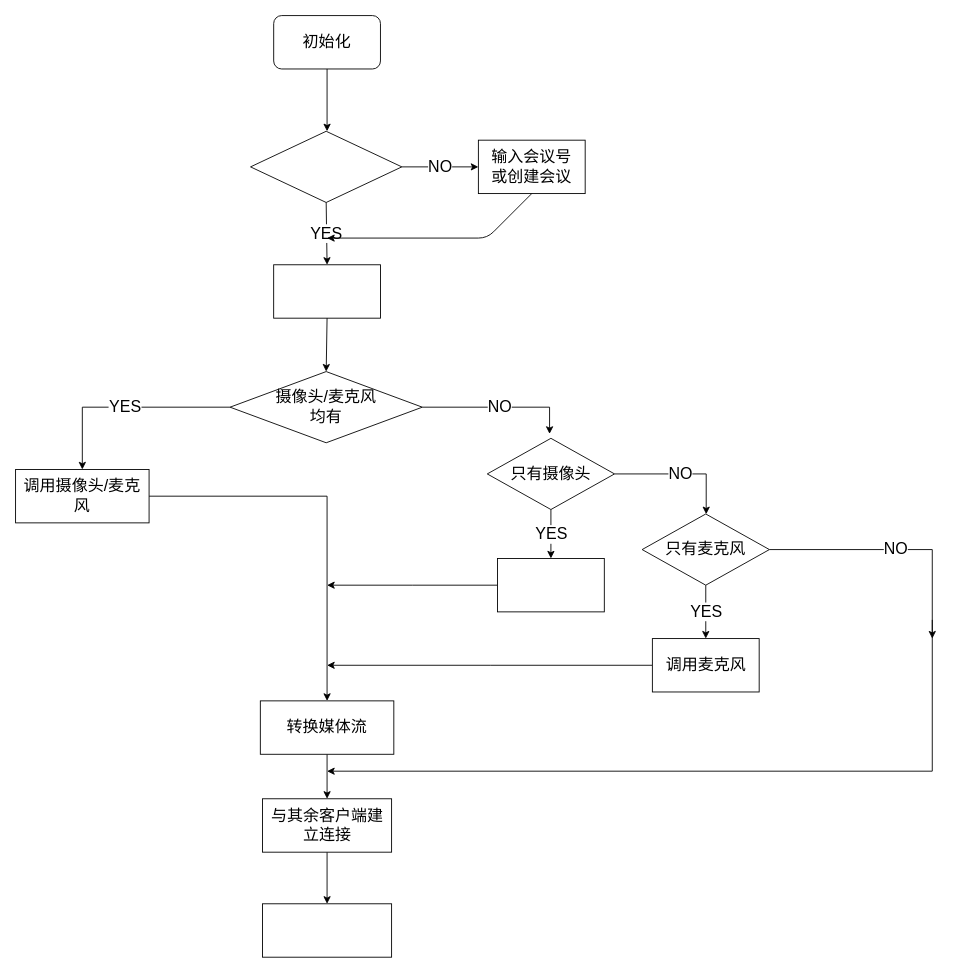
Image size: 955x973. Some labels were removed from this diagram. The shapes that lost their labels are listed below. From the top down, each one's centre as x and y in pixels, then its label:
point 326,166: 是否分享链接
point 326,291: 输入姓名
point 550,585: 调用摄像头
point 327,930: 传送本地流 接受远程流
